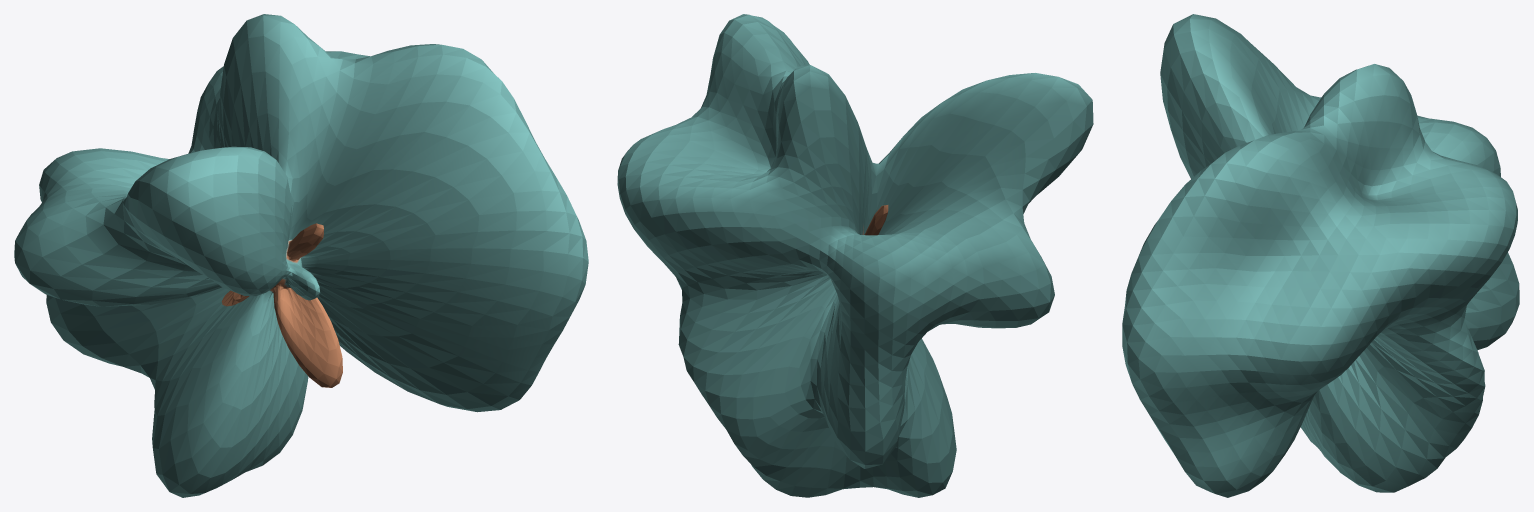
File: bed_mesh.glb
3 views of the same model, side by side, from view 1: azimuth 30°, elevation 25°; view 2: azimuth 150°, elevation 25°; view 3: azimuth 270°, elevation 25° (orthographic). The views are drawn at different scales.
Bounding box in the file's own units: 1.75 × 1.57 × 1.32.
